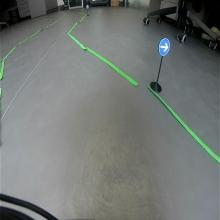right: (158, 38, 170, 56)
